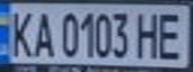0: (57, 8, 81, 59), (93, 8, 115, 59)
1: (78, 8, 96, 59)
3: (109, 8, 136, 59)
A: (30, 7, 57, 60)
E: (154, 8, 190, 61)
H: (133, 8, 163, 60)
K: (3, 7, 36, 60)
